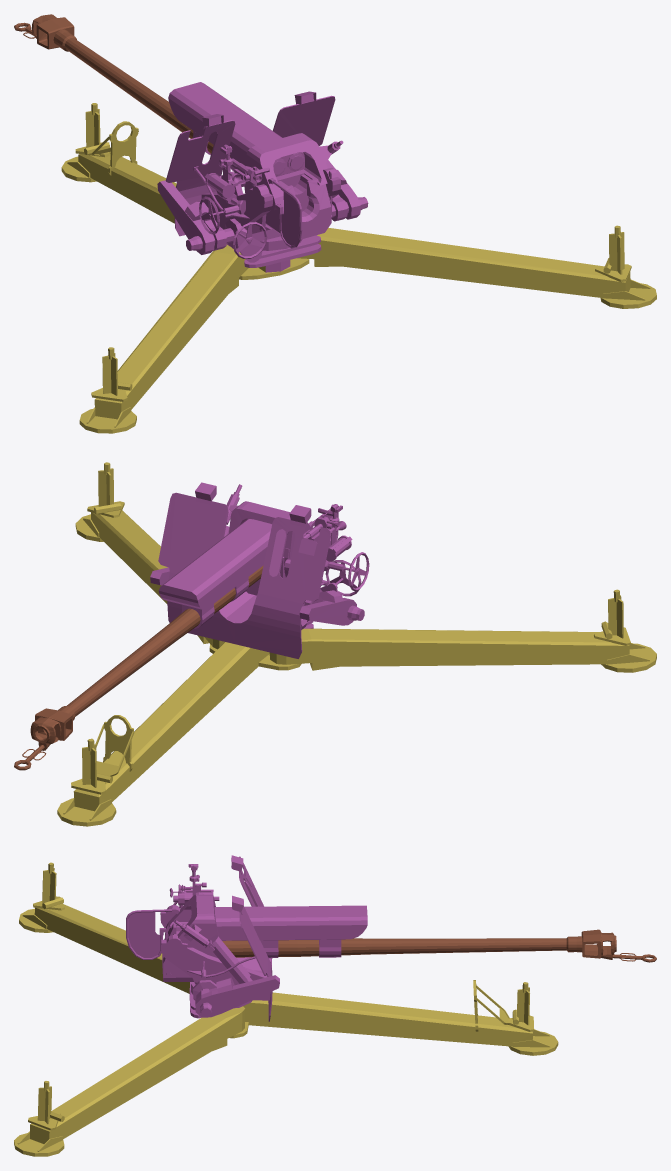
Rendered from gausbitsa-d-30_Update1.fbx.
The picture shows the model from 3 angles, top to bottom: view 1: azimuth 30°, elevation 25°; view 2: azimuth 150°, elevation 25°; view 3: azimuth 270°, elevation 25°; orthographic projection. The views are drawn at different scales.
Visible parts, largest first — view 1: Attack, Base; view 2: Attack, Base; view 3: Base, Attack.
Boxes of the visible parts, box(x1,y1,x2,y2) form: Attack: box(14, 14, 368, 272); Base: box(61, 103, 656, 433); Attack: box(14, 482, 369, 770); Base: box(57, 462, 656, 826); Base: box(14, 862, 558, 1156); Attack: box(126, 855, 656, 1021).
Size of the model in its own units: 24.84 by 8.12 by 27.47.
